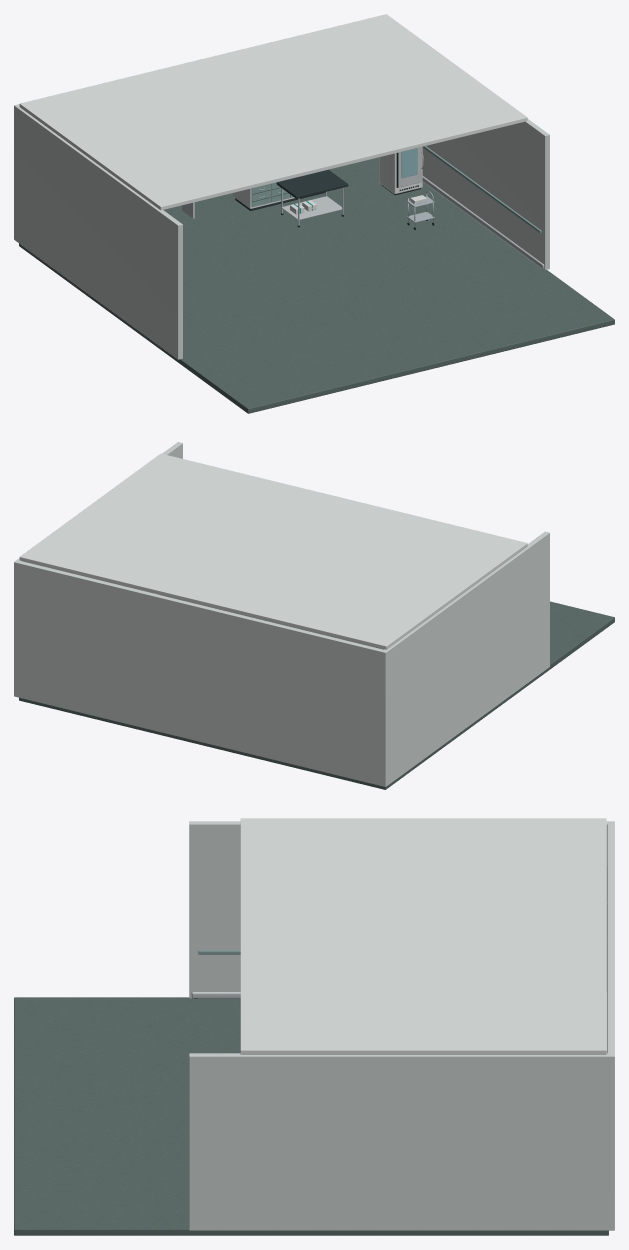
The model's file is laboratory.glb.
3 renders of one model, top to bottom at view 1: azimuth 30°, elevation 25°; view 2: azimuth 150°, elevation 25°; view 3: azimuth 270°, elevation 25°, orthographic. The views are drawn at different scales.
Parts seen in each view (by area): view 1: HF_Lab_seamless_speckled_epoxy, HF_Lab_warm_powder_coat, HF_Lab_mineral_white_wall, HF_Lab_anodized_aluminium, HF_Lab_graphite_phenolic, HF_Lab_sage_cabinet_laminate, HF_Lab_satin_stainless; view 2: HF_Lab_mineral_white_wall, HF_Lab_warm_powder_coat, HF_Lab_seamless_speckled_epoxy; view 3: HF_Lab_warm_powder_coat, HF_Lab_mineral_white_wall, HF_Lab_seamless_speckled_epoxy, HF_Lab_anodized_aluminium.
Boxes of the visible parts, x1,y1,x2,y2 form: HF_Lab_seamless_speckled_epoxy: [19, 157, 614, 413]; HF_Lab_warm_powder_coat: [19, 14, 527, 214]; HF_Lab_mineral_white_wall: [14, 104, 549, 359]; HF_Lab_anodized_aluminium: [182, 147, 544, 269]; HF_Lab_graphite_phenolic: [235, 169, 418, 210]; HF_Lab_sage_cabinet_laminate: [251, 146, 541, 233]; HF_Lab_satin_stainless: [258, 152, 434, 226]; HF_Lab_mineral_white_wall: [14, 442, 549, 786]; HF_Lab_warm_powder_coat: [19, 453, 527, 649]; HF_Lab_seamless_speckled_epoxy: [19, 595, 614, 789]; HF_Lab_warm_powder_coat: [240, 818, 606, 1054]; HF_Lab_mineral_white_wall: [189, 821, 614, 1230]; HF_Lab_seamless_speckled_epoxy: [14, 997, 608, 1235]; HF_Lab_anodized_aluminium: [191, 864, 607, 1053].
Size of the model in its own units: 12.16 by 4.47 by 13.13.
14 materials, 1 textured.
